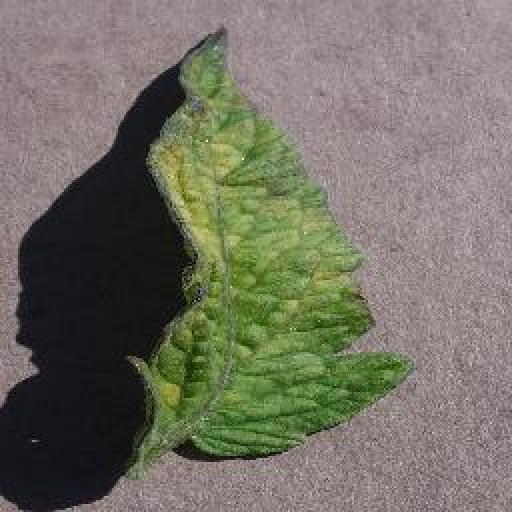disease_tomato: (127, 22, 415, 458)
